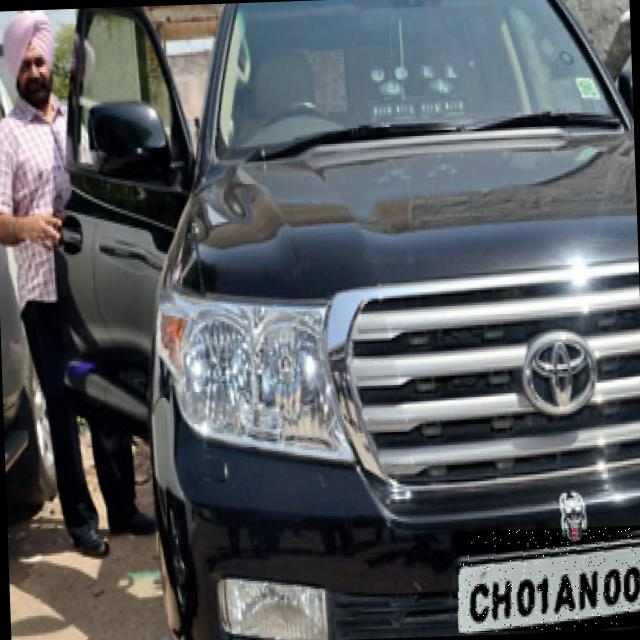Plate: (455, 525, 640, 633)
